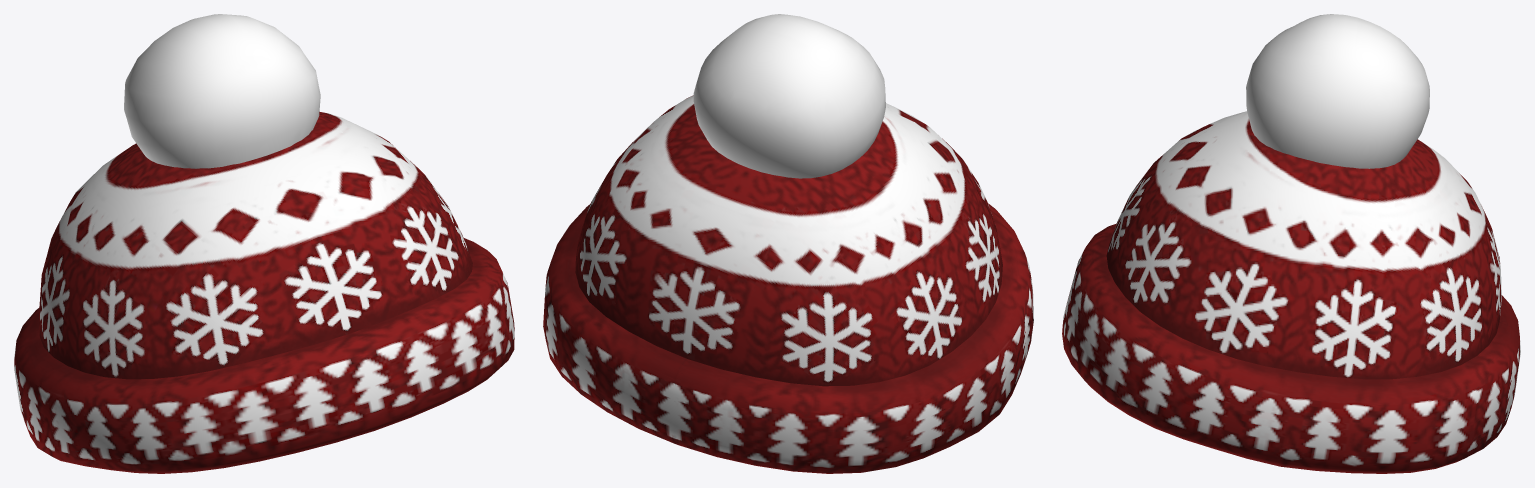
Rendered from doodad_winter_hat.fbx.
3 views of the same model, side by side, from view 1: azimuth 30°, elevation 25°; view 2: azimuth 150°, elevation 25°; view 3: azimuth 270°, elevation 25° (orthographic). The views are drawn at different scales.
Visible parts, largest first — view 1: doodad_winter_hat; view 2: doodad_winter_hat; view 3: doodad_winter_hat.
Part boxes in pixels (bbox=[...]): doodad_winter_hat: bbox=[14, 14, 514, 473]; doodad_winter_hat: bbox=[543, 14, 1033, 473]; doodad_winter_hat: bbox=[1062, 14, 1520, 473].
Bounding box in the file's own units: 0.2397 × 0.2074 × 0.2222.
